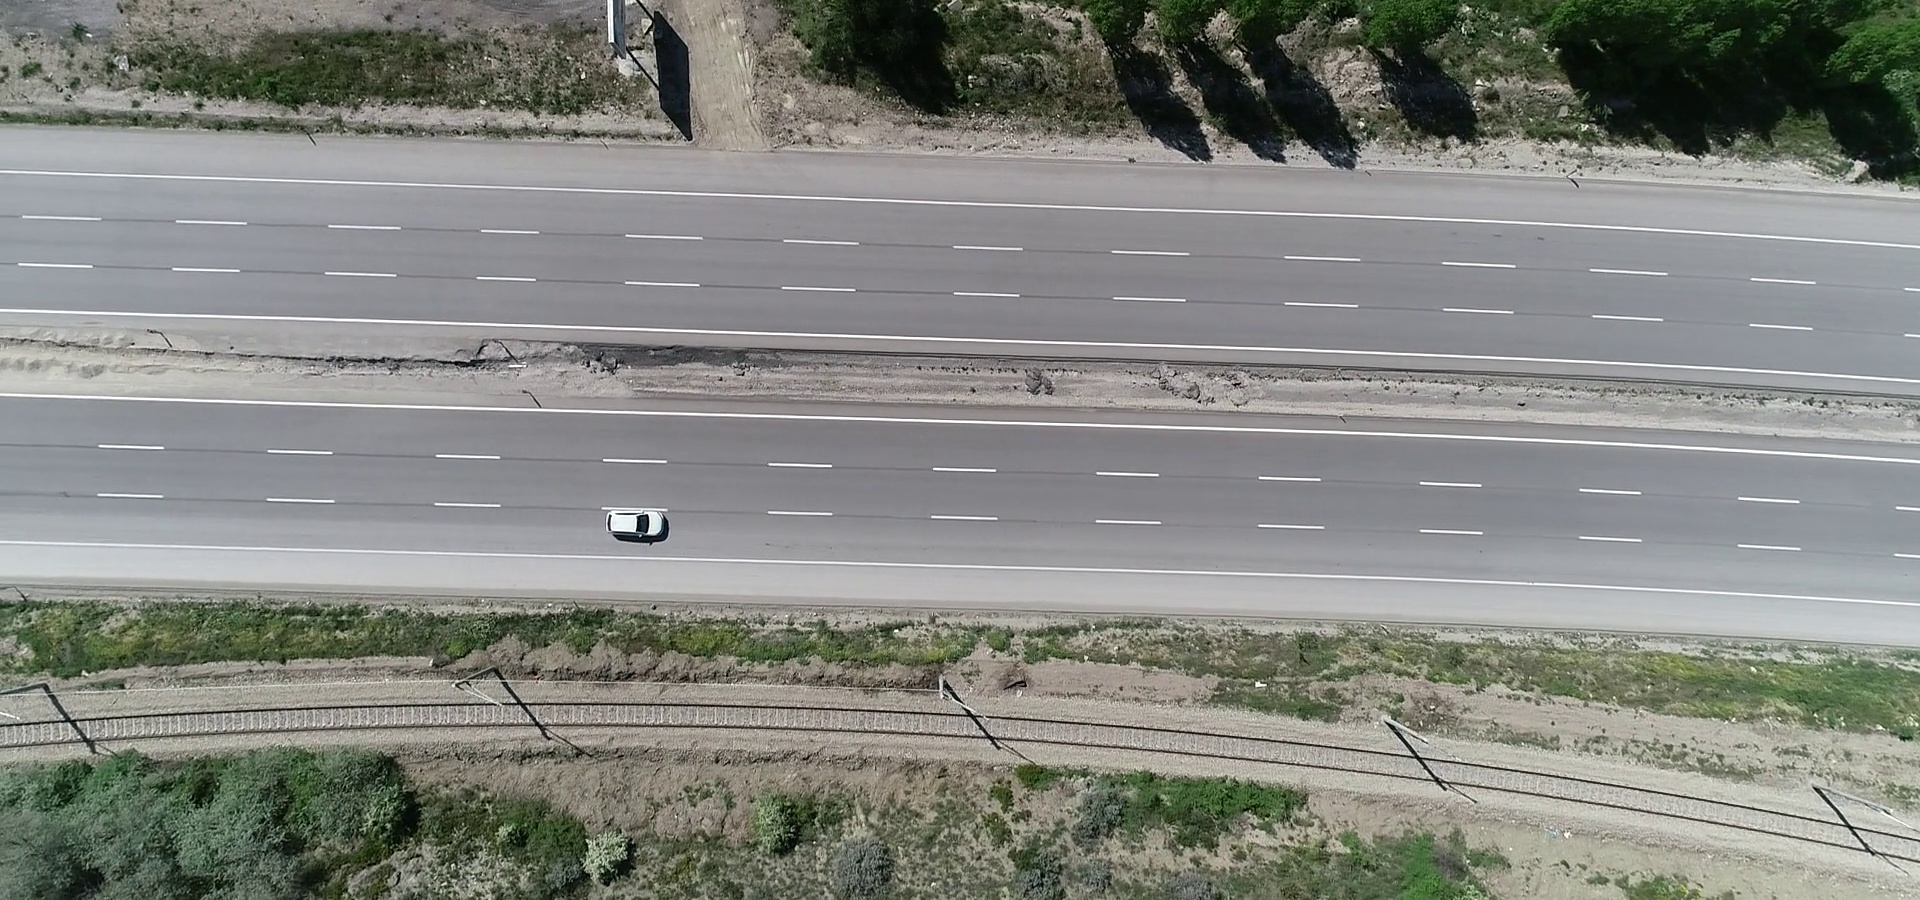araba: (601, 503, 676, 551)
